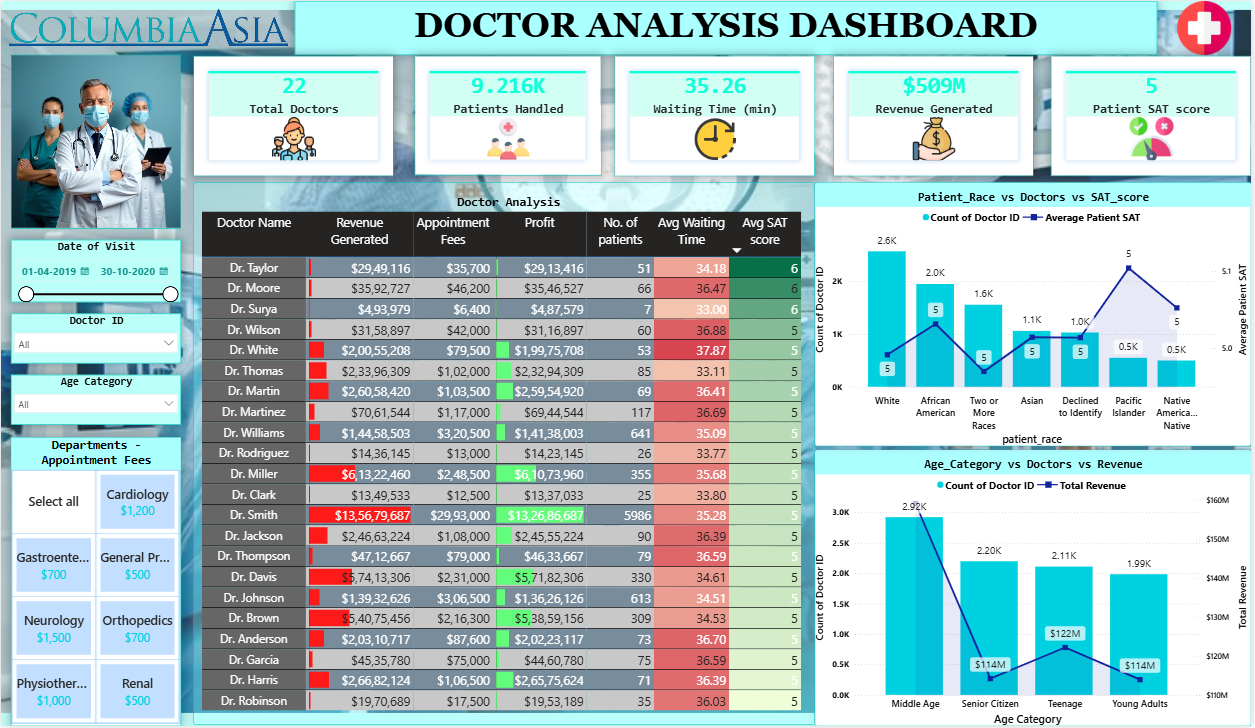

The page's visual inventory and layout, read from the dashboard file:
{"tool":"powerbi","page":{"name":"Doctors Tab","canvas":[2000,1160],"ordinal":1},"visuals":[{"type":"image","box":[0,0,472,86],"z":0},{"type":"cardVisual","fields":{"Data":["Hospital ER.Total Visits"]},"box":[662,88,298.9,191.1],"z":0,"group":"g2"},{"type":"image","box":[1850,0,150,86],"z":1000},{"type":"textbox","box":[470,0,1380,86],"z":2000},{"type":"image","box":[16,86,272,278],"z":3000},{"type":"group","id":"g1","title":"Group 1","box":[662,88,320,192],"z":4000},{"type":"group","id":"g2","title":"Group 3","box":[662,88,298.9,191.1],"z":4001,"group":"g3"},{"type":"group","id":"g3","title":"Group 2","box":[662,88,298.9,191.1],"z":4003,"group":"g1"},{"type":"cardVisual","fields":{"Data":["Hospital ER.Average Patient SAT"]},"box":[1680,88,320,192],"z":5000},{"type":"cardVisual","fields":{"Data":["Hospital ER.Average Waiting Time"]},"box":[982,88,320,192],"z":6000},{"type":"cardVisual","fields":{"Data":["Doctor-Patients Data.Total Revenue"]},"box":[1332,88,320,192],"z":7000},{"type":"cardVisual","fields":{"Data":["Doctor-Patients Data.Total Doctors"]},"box":[308,88,320,192],"z":8000},{"type":"pivotTable","title":"Doctor Analysis","fields":{"Rows":["Doctor-Patients Data.Doctor Name"],"Values":["Doctor-Patients Data.Total Revenue","Sum(Doctor-Patients Data.Appointment Fees)","Doctor-Patients Data.Profit","CountNonNull(Doctor-Patients Data.patient_id)","Hospital ER.Average Waiting Time","Hospital ER.Average Patient SAT"]},"box":[307.3,290.6,994.6,867.9],"z":9000},{"type":"lineClusteredColumnComboChart","title":"Age_Category vs Doctors vs Revenue","fields":{"Category":["Hospital ER.Age Category"],"Y":["CountNonNull(Doctor-Patients Data.Doctor ID)"],"Y2":["Doctor-Patients Data.Total Revenue"]},"box":[1302,718,698,442],"z":10000},{"type":"lineClusteredColumnComboChart","title":"Patient_Race vs Doctors vs SAT_score","fields":{"Y":["CountNonNull(Doctor-Patients Data.Doctor ID)"],"Category":["Hospital ER.patient_race"],"Y2":["Hospital ER.Average Patient SAT"]},"box":[1302,290,698,422],"z":11000},{"type":"advancedSlicerVisual","title":"Departments - Appointment Fees ","fields":{"Values":["Hospital ER.department_referral"],"Label":["Max(Doctor-Patients Data.Appointment Fees)"]},"box":[16,698,272,462],"z":12000},{"type":"slicer","title":"Date of Visit","fields":{"Values":["Calendar.date"]},"box":[16,382,272,100],"z":13000},{"type":"slicer","title":"Doctor ID","fields":{"Values":["Doctor-Patients Data.Doctor ID"]},"box":[16,500,272,80],"z":14000},{"type":"slicer","title":"Age Category","fields":{"Values":["Hospital ER.Age Category"]},"box":[16,598,272,80],"z":15000}]}

Visuals, with their boxes in screenshot pixels (x1, y1, x2, y2), scaled from the page's 2000x1160 canvas onto the 1255x728 screenshot:
image: (0, 0, 296, 54)
cardVisual - Hospital ER.Total Visits: (415, 55, 603, 175)
image: (1161, 0, 1254, 54)
textbox: (295, 0, 1161, 54)
image: (10, 54, 181, 228)
"Group 1" group: (415, 55, 616, 176)
"Group 3" group: (415, 55, 603, 175)
"Group 2" group: (415, 55, 603, 175)
cardVisual - Hospital ER.Average Patient SAT: (1054, 55, 1254, 176)
cardVisual - Hospital ER.Average Waiting Time: (616, 55, 817, 176)
cardVisual - Doctor-Patients Data.Total Revenue: (836, 55, 1037, 176)
cardVisual - Doctor-Patients Data.Total Doctors: (193, 55, 394, 176)
"Doctor Analysis" pivotTable: (193, 182, 817, 727)
"Age_Category vs Doctors vs Revenue" lineClusteredColumnComboChart: (817, 451, 1254, 727)
"Patient_Race vs Doctors vs SAT_score" lineClusteredColumnComboChart: (817, 182, 1254, 447)
"Departments - Appointment Fees " advancedSlicerVisual: (10, 438, 181, 727)
"Date of Visit" slicer: (10, 240, 181, 302)
"Doctor ID" slicer: (10, 314, 181, 364)
"Age Category" slicer: (10, 375, 181, 426)
